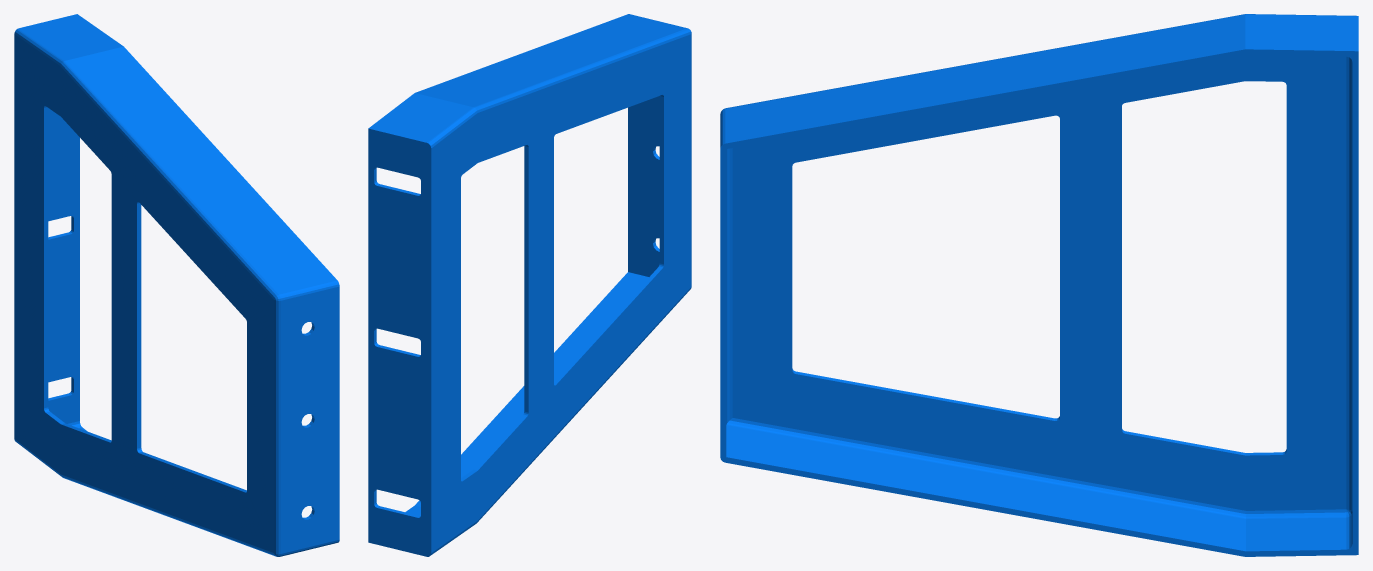
Rendered from rambler_Chasis_vis_14.dae.
3 renders of one model, left to right at view 1: azimuth 30°, elevation 25°; view 2: azimuth 150°, elevation 25°; view 3: azimuth 270°, elevation 25°, orthographic. The views are drawn at different scales.
Parts seen in each view (by area): view 1: Node_0x7fe100285c80; view 2: Node_0x7fe100285c80; view 3: Node_0x7fe100285c80.
Boxes of the visible parts, x1,y1,x2,y2 form: Node_0x7fe100285c80: (14, 14, 339, 556); Node_0x7fe100285c80: (368, 14, 691, 556); Node_0x7fe100285c80: (720, 14, 1358, 556).
Bounding box in the file's own units: 0.043 × 0.272 × 0.31.
